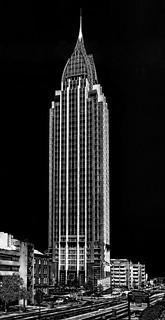building: (43, 36, 112, 294)
